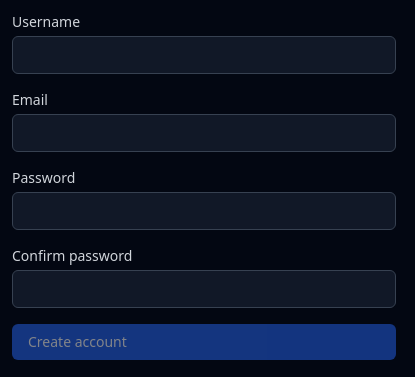
Test case: RegisterForm › enables button when all fields are filled
Type "alice" into the field labelled "Username" at (204, 55), box [12,36,396,74]
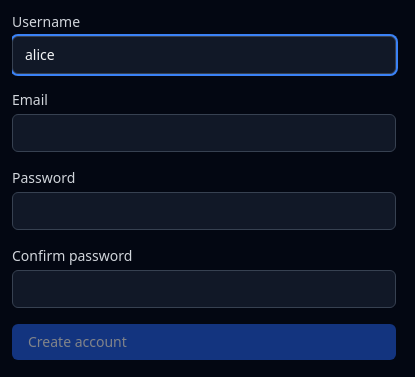
Type "alice@example.com" into the field labelled "Email" at (204, 133), box [12,114,396,152]
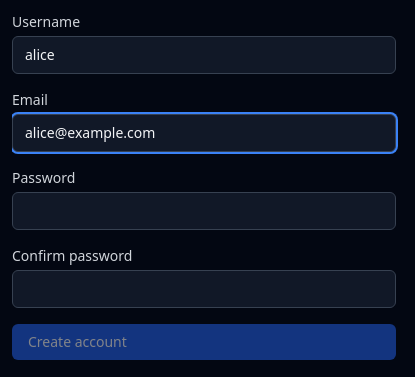
Type "Password1" into the password field labelled "Password" at (204, 211), box [12,192,396,230]
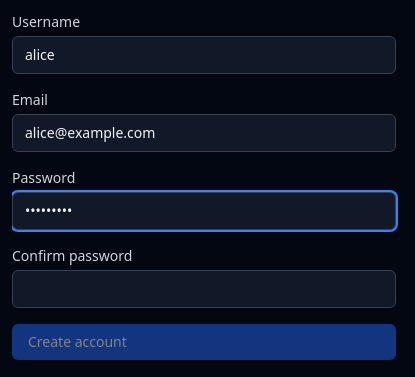
Type "Password1" into the password field labelled "Confirm password" at (204, 289), box [12,270,396,308]
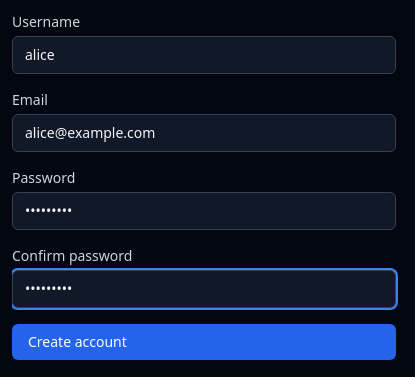
Expected: the button "Create account" is enabled, [12,324,396,360]
